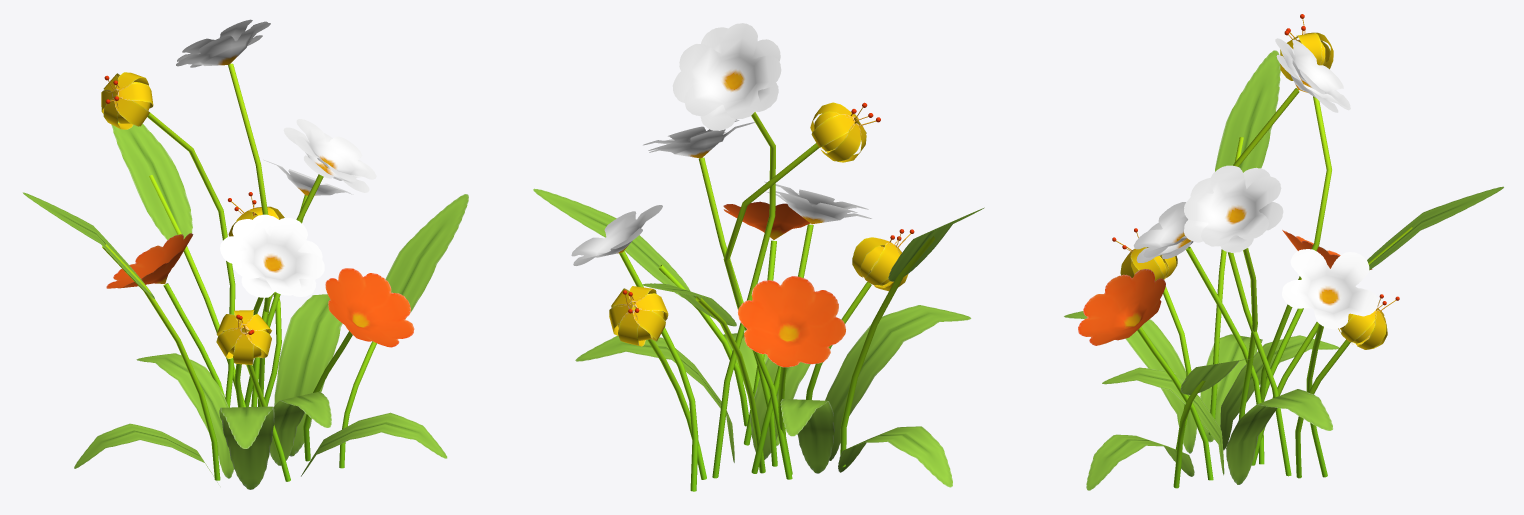
File: plant4.fbx
3 renders of one model, left to right at view 1: azimuth 30°, elevation 25°; view 2: azimuth 150°, elevation 25°; view 3: azimuth 270°, elevation 25°, orthographic. The views are drawn at different scales.
Parts seen in each view (by area): view 1: plant4; view 2: plant4; view 3: plant4.
Part boxes in pixels (x1,y1,x2,y2): plant4: [22, 19, 468, 489]; plant4: [533, 23, 984, 491]; plant4: [1064, 14, 1503, 490].
Size of the model in its own units: 225 by 206 by 198.
